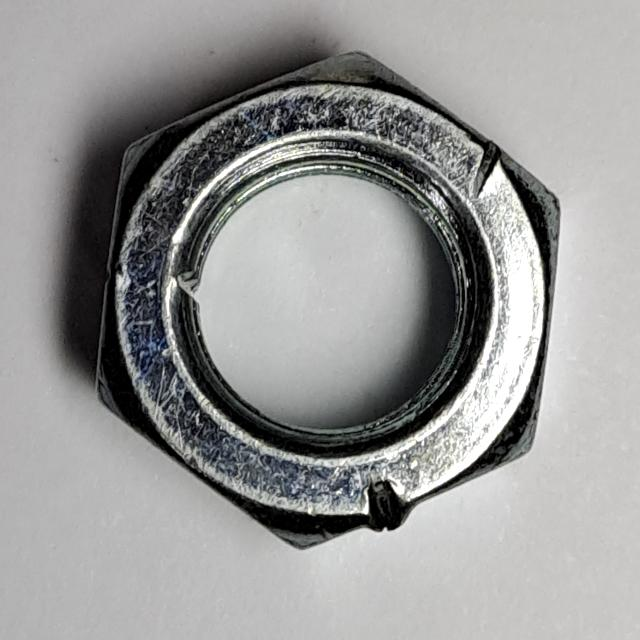Scratches: (90, 42, 571, 561)
